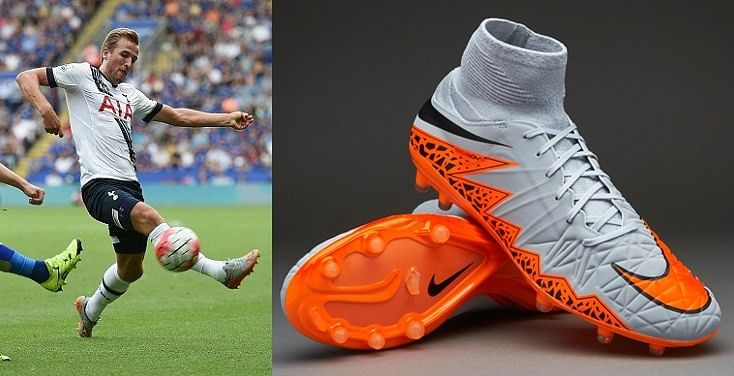football boots: (414, 21, 723, 352), (283, 212, 535, 351), (40, 239, 85, 294), (221, 250, 260, 292), (75, 296, 96, 338)
